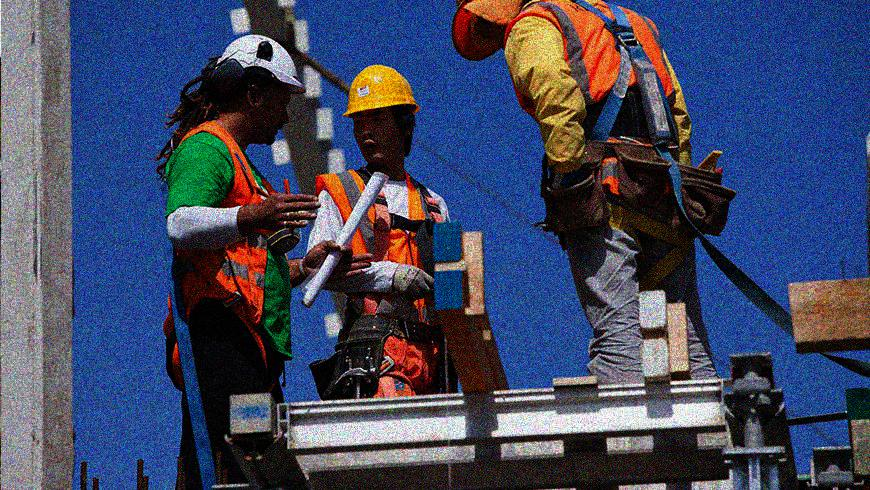helmet: (215, 34, 306, 145), (345, 64, 421, 161)
